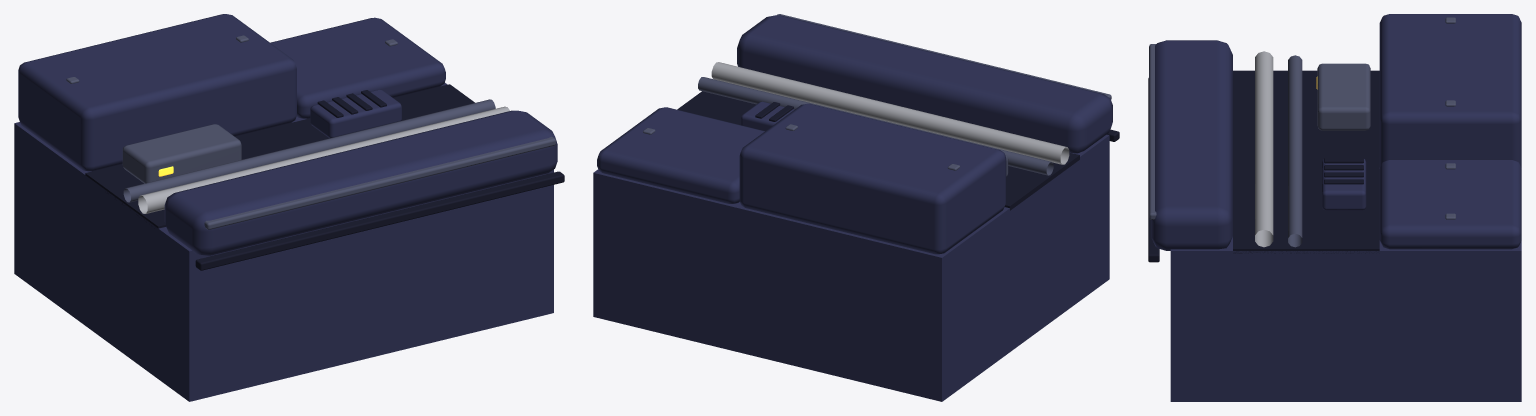
File: int.rimliner.v2.w0.95.glb
The picture shows the model from 3 angles, left to right: view 1: azimuth 30°, elevation 25°; view 2: azimuth 150°, elevation 25°; view 3: azimuth 270°, elevation 25°; orthographic projection. The views are drawn at different scales.
Parts seen in each view (by area): view 1: int.rimliner.v2.w0.95; view 2: int.rimliner.v2.w0.95; view 3: int.rimliner.v2.w0.95.
Part boxes in pixels (box(x1,y1,x2,y2)): int.rimliner.v2.w0.95: box(14, 14, 564, 401); int.rimliner.v2.w0.95: box(593, 14, 1119, 401); int.rimliner.v2.w0.95: box(1148, 14, 1521, 401).
Bounding box in the file's own units: 0.95 × 0.536 × 0.841.
